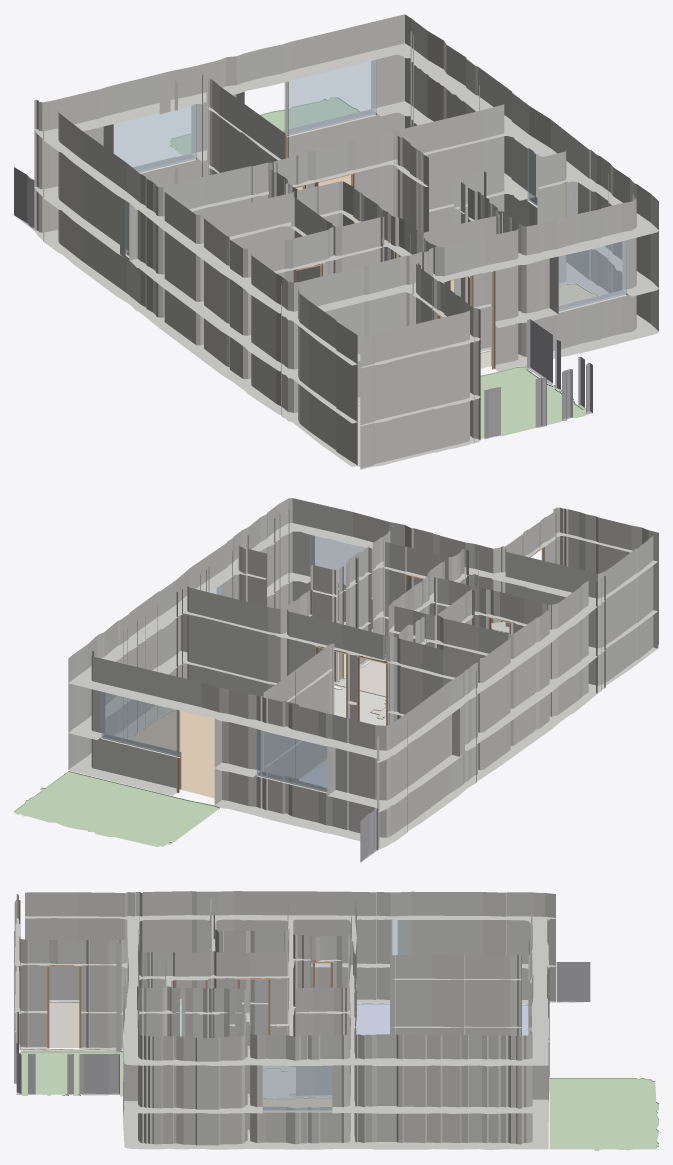
The picture shows the model from 3 angles, top to bottom: view 1: azimuth 30°, elevation 25°; view 2: azimuth 150°, elevation 25°; view 3: azimuth 270°, elevation 25°; orthographic projection. The views are drawn at different scales.
Parts seen in each view (by area): view 1: walls, railings, window_11, window_10, window_14, floor_0_Outdoor, floor_1_Outdoor; view 2: walls, floor_1_Outdoor, floor_4_Living_Room, window_11, window_10, window_14, floor_16_Undefined, floor_10_Entry, railings; view 3: walls, floor_1_Outdoor, railings, window_13, floor_0_Outdoor, floor_13_Storage, floor_6_Bed_Room, floor_16_Undefined, floor_3_Living_Room, door_9, window_12.
Part boxes in pixels (x1,y1,x2,y2): walls: (34,14,658,469); railings: (14,167,592,439); window_11: (284,60,376,135); window_10: (109,104,196,171); window_14: (554,238,626,311); floor_0_Outdoor: (480,366,585,438); floor_1_Outdoor: (170,97,359,155); walls: (68,498,658,849); floor_1_Outdoor: (14,771,219,846); floor_4_Living_Room: (129,710,263,798); window_11: (101,692,180,756); window_10: (256,729,331,791); window_14: (310,535,365,589); floor_16_Undefined: (334,684,385,725); floor_10_Entry: (335,656,385,718); railings: (360,808,378,862); walls: (14,891,555,1149); floor_1_Outdoor: (549,1078,658,1150); railings: (14,962,590,1095); window_13: (262,1065,332,1110); floor_0_Outdoor: (20,1051,123,1097); floor_13_Storage: (49,1002,79,1047); floor_6_Bed_Room: (356,1003,528,1035); floor_16_Undefined: (263,1066,295,1098); floor_3_Living_Room: (263,1097,331,1107); door_9: (47,965,81,1048); window_12: (392,919,406,955).
Bounding box in the file's own units: 8.15 × 2.72 × 14.67.
